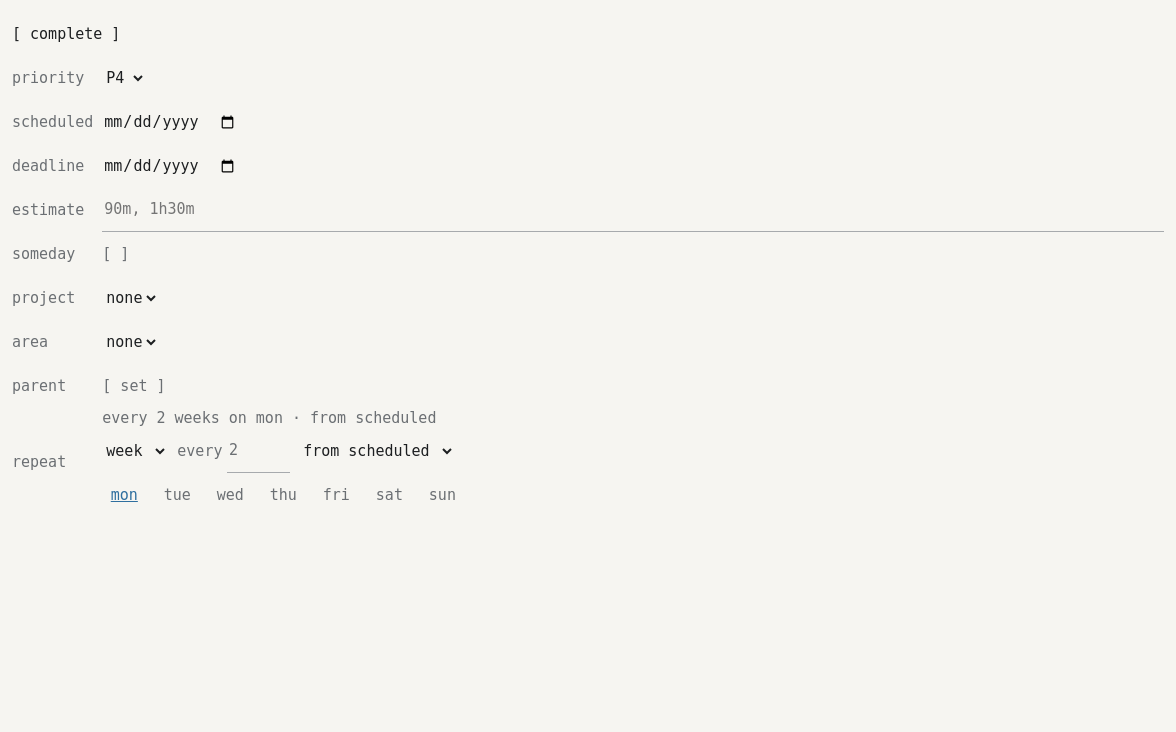
Test: recurrence editor › a rejected frequency puts the saved one back
Expected: the text "every 2 weeks on mon · from scheduled" is shown, left=102, top=408, right=464, bottom=429
Step 1. Select "month" in the dropdown named "repeat" → x=135, y=451, box left=102, top=429, right=168, bottom=473
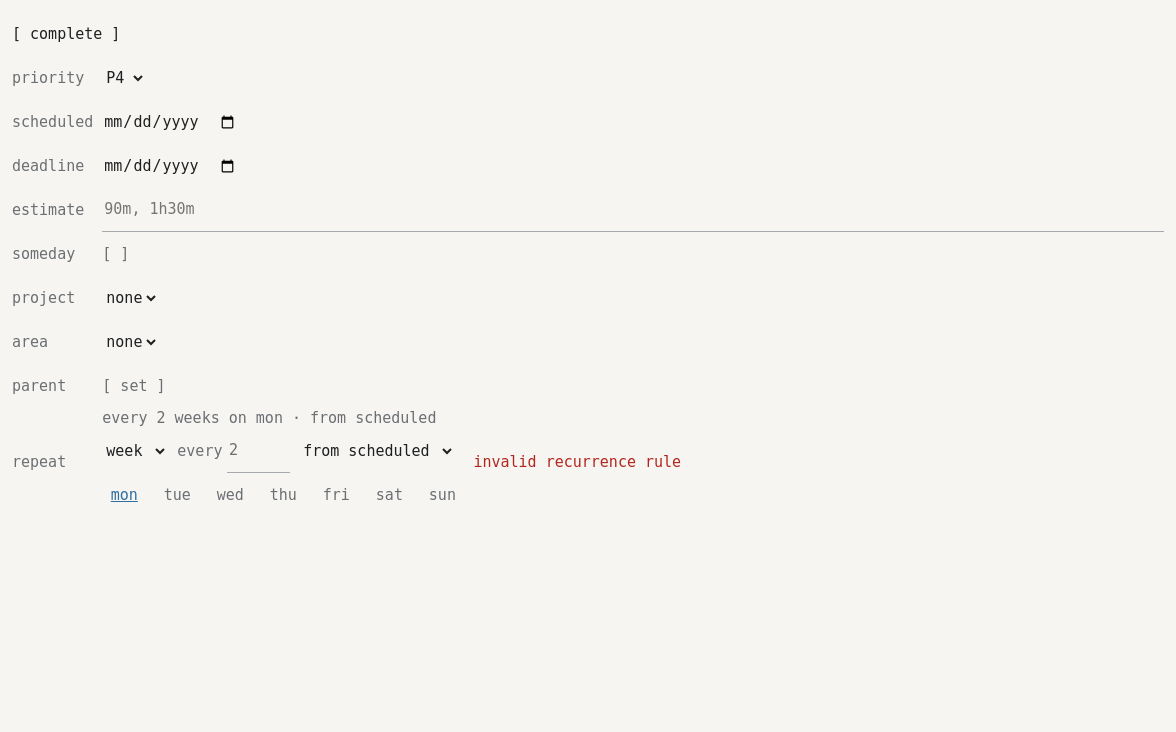
Now the message "invalid recurrence rule" is shown, box left=473, top=452, right=681, bottom=473
